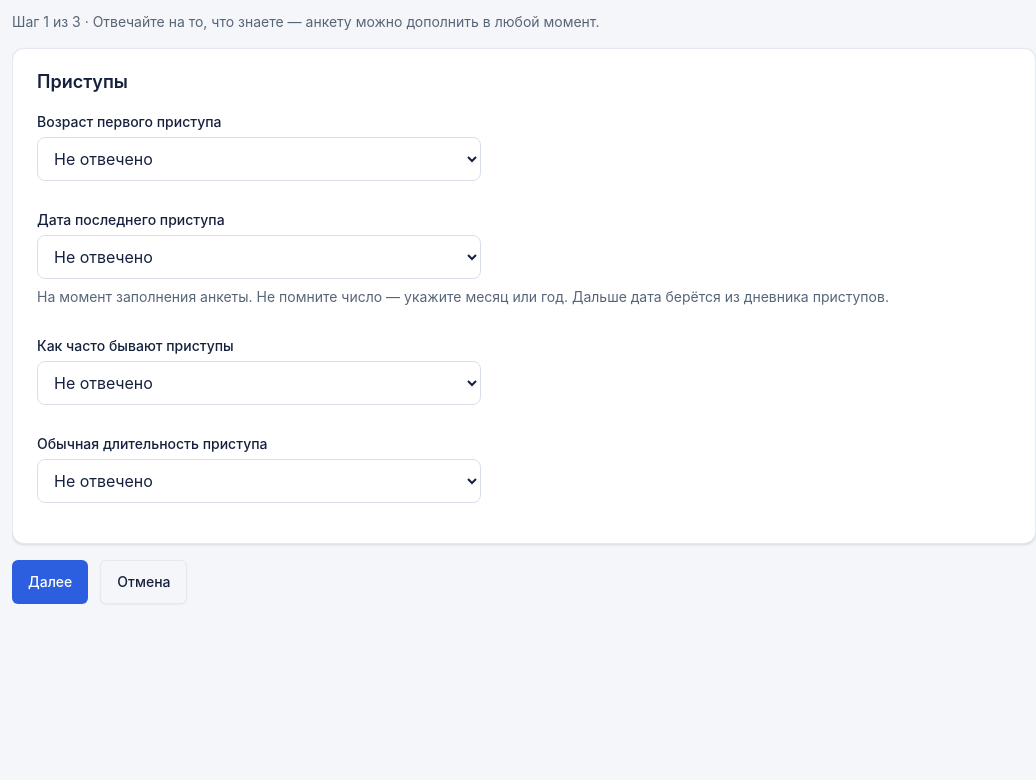
Test: IntakeForm › врачебные поля в анкете семьи не показываются
Step 1. Click the button "Далее" → (50, 582), box [12,560,88,604]
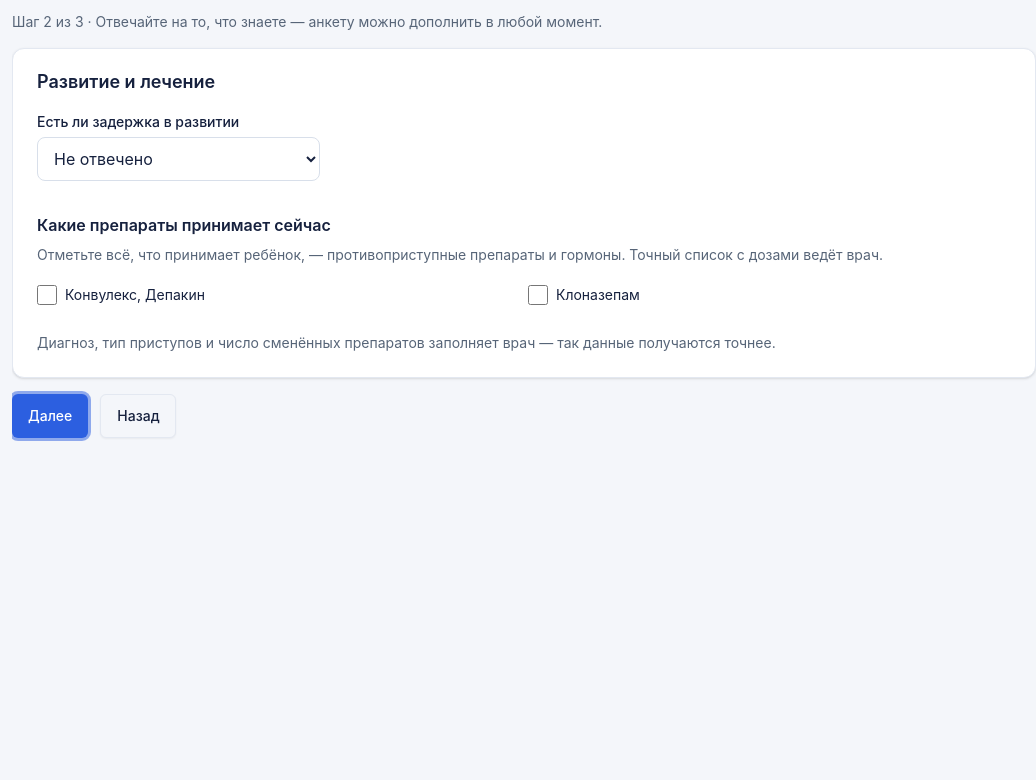
Check: the text "заполняет врач" is shown, box [37,334,776,351]
